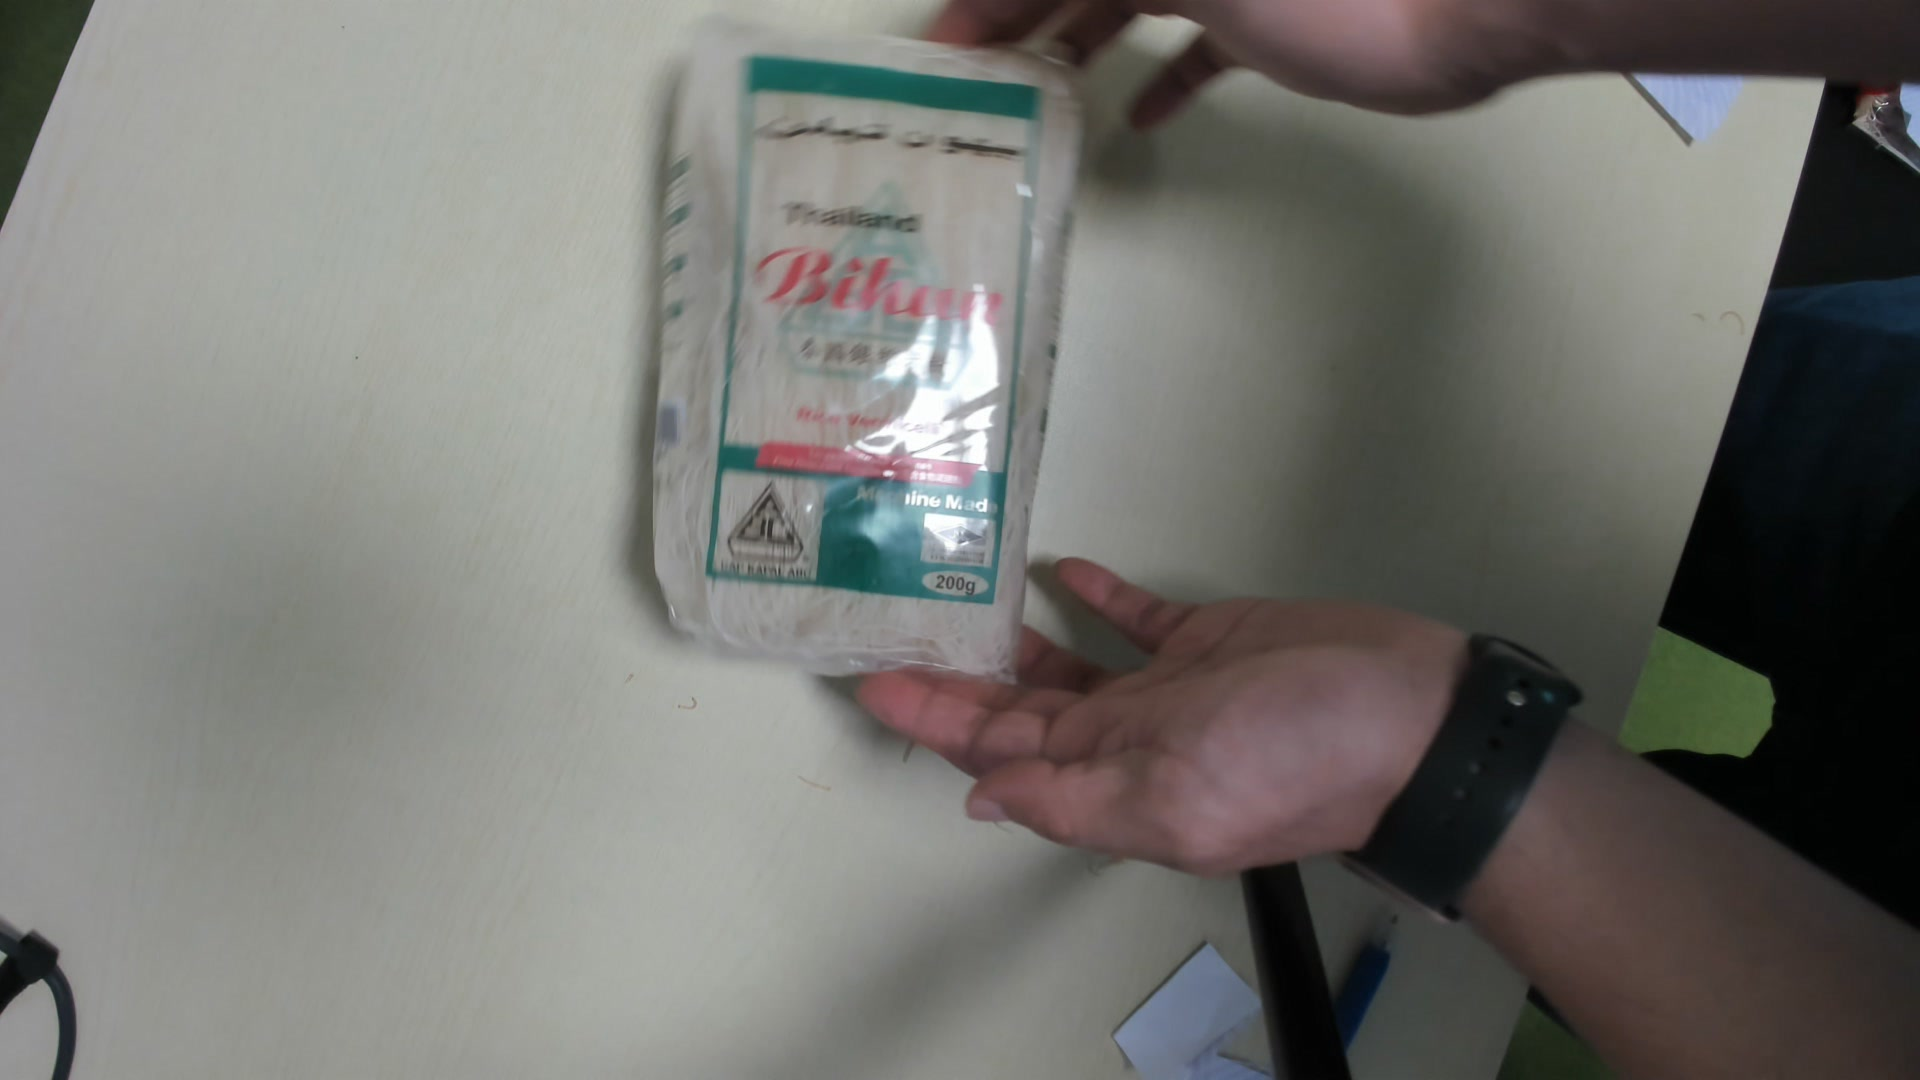BeeHoonVermicelli_200-299g_Halal_NonHealthy: (647, 8, 1080, 676)
